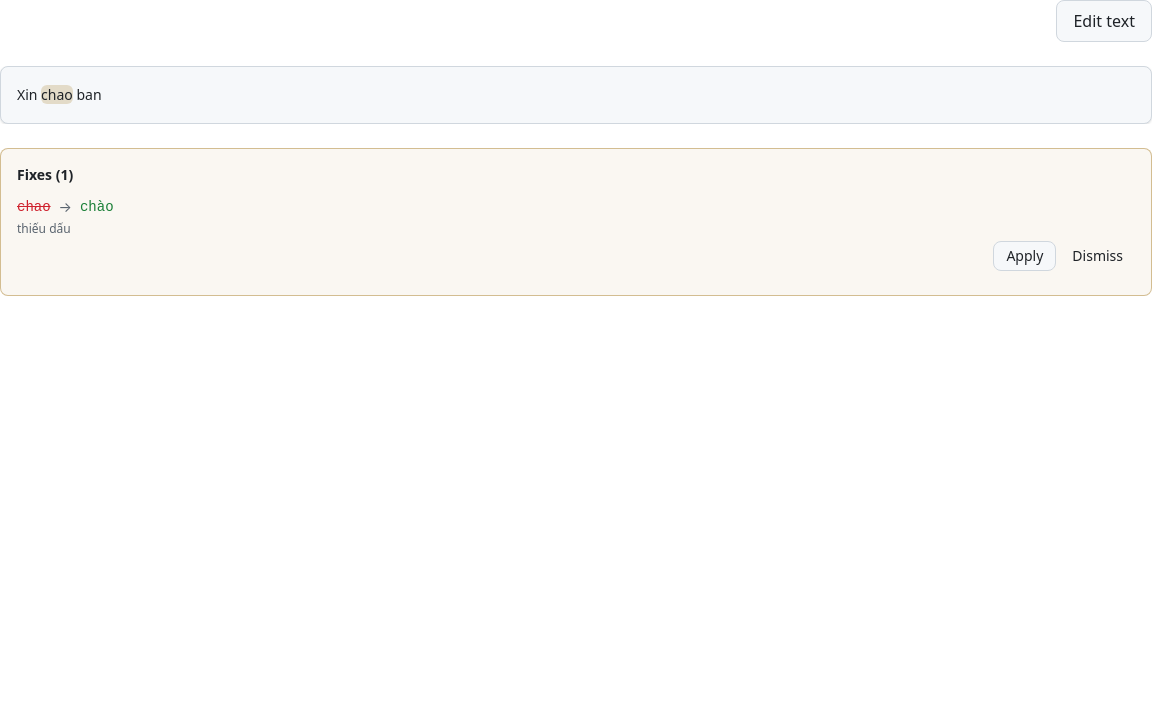
it: save with requires_rerender → confirm modal; Lưu & xếp hàng → toast + invalidate
Click the button "chao" at coordinates (57, 95), box [41, 83, 73, 107]
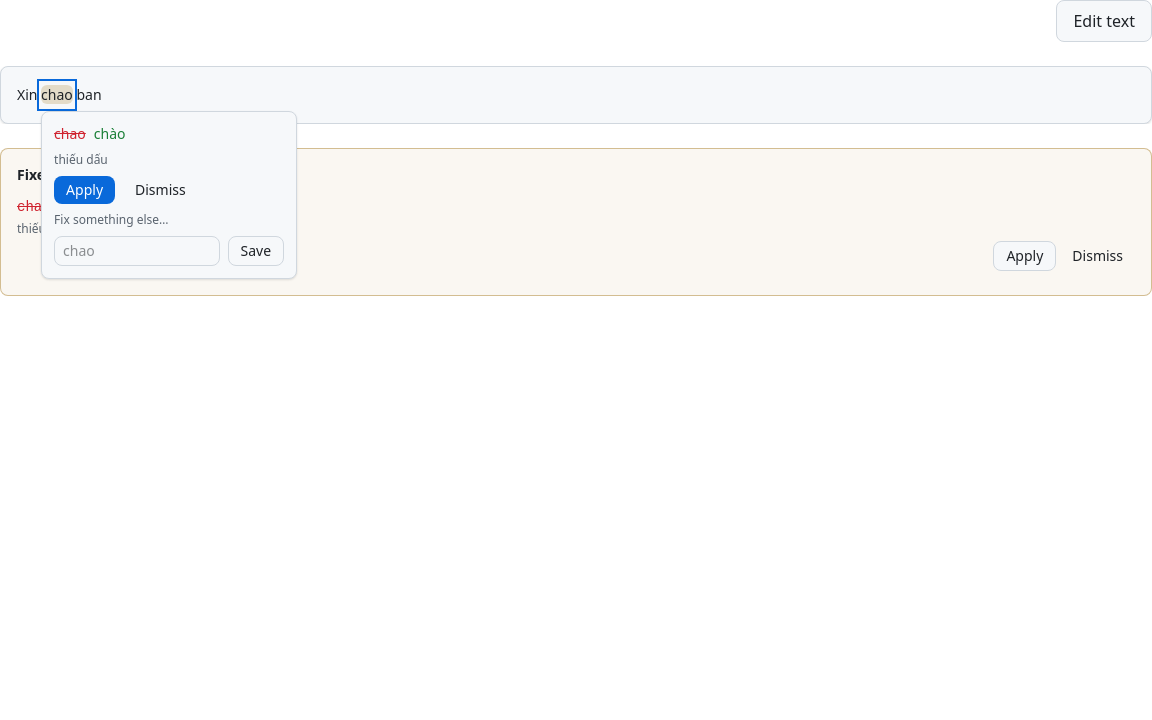
Click the button with test id "btn-apply-11" at coordinates (85, 190), box [54, 176, 115, 204]
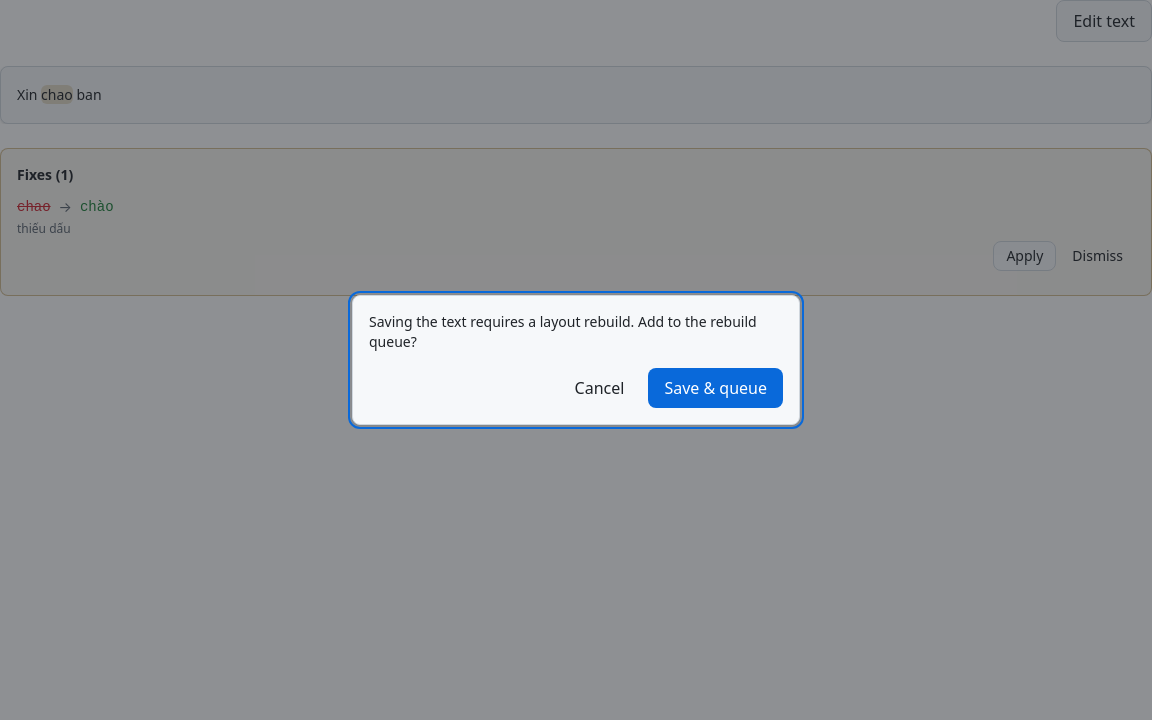
Check: the dialog with test id "rerender-modal" shows "Saving the text requires a layout rebuild. Add to the rebuild queue?", box [369, 312, 757, 351]
Click the button with test id "btn-rerender-confirm" at coordinates (716, 388), box [648, 368, 783, 408]
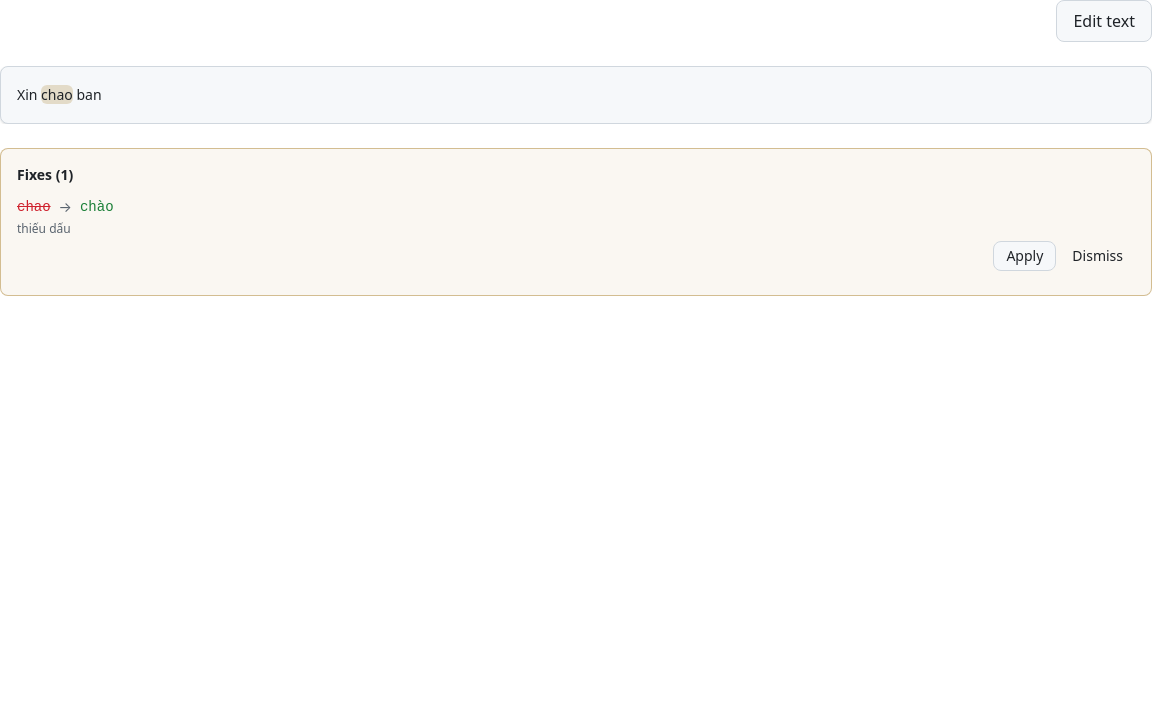
Check: the dialog with test id "rerender-modal" is gone
